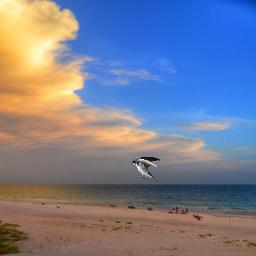Swallow: (131, 156, 160, 182)
